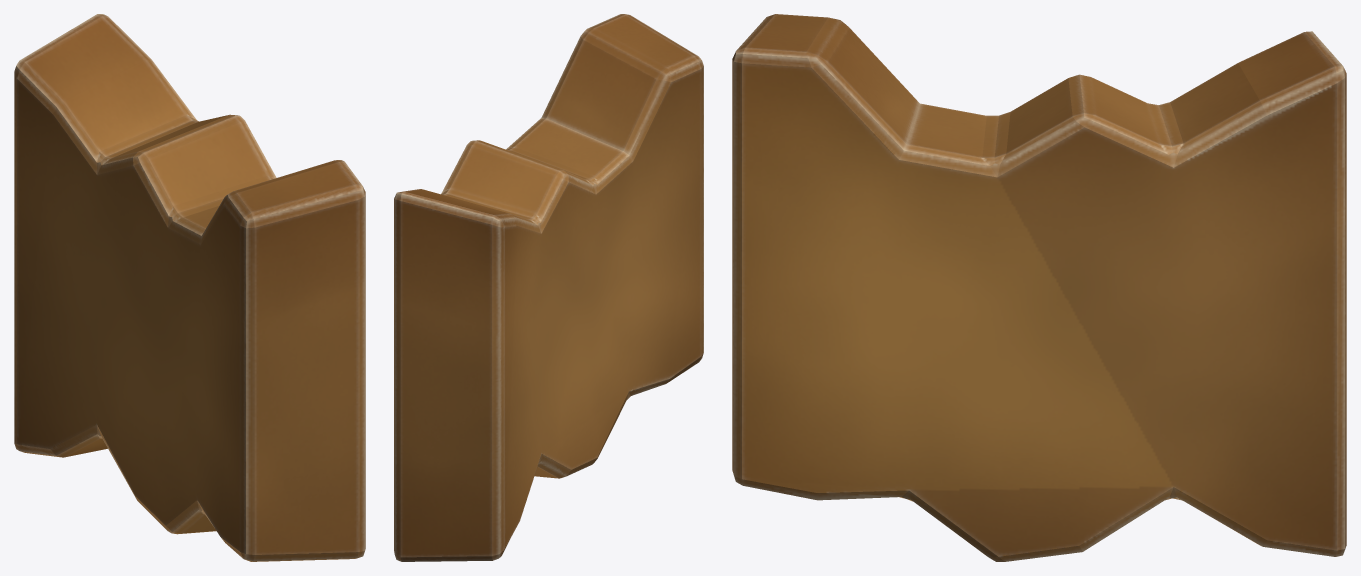
The model's file is FT_BellShard.glb.
3 renders of one model, left to right at view 1: azimuth 30°, elevation 25°; view 2: azimuth 150°, elevation 25°; view 3: azimuth 270°, elevation 25°, orthographic. The views are drawn at different scales.
Parts seen in each view (by area): view 1: FT_BellShard; view 2: FT_BellShard; view 3: FT_BellShard.
Part boxes in pixels (x1,y1,x2,y2): FT_BellShard: [14, 14, 365, 561]; FT_BellShard: [394, 14, 703, 561]; FT_BellShard: [732, 14, 1346, 561].
Size of the model in its own units: 0.4223 by 1.29 by 1.41.
1 material, 1 textured.
